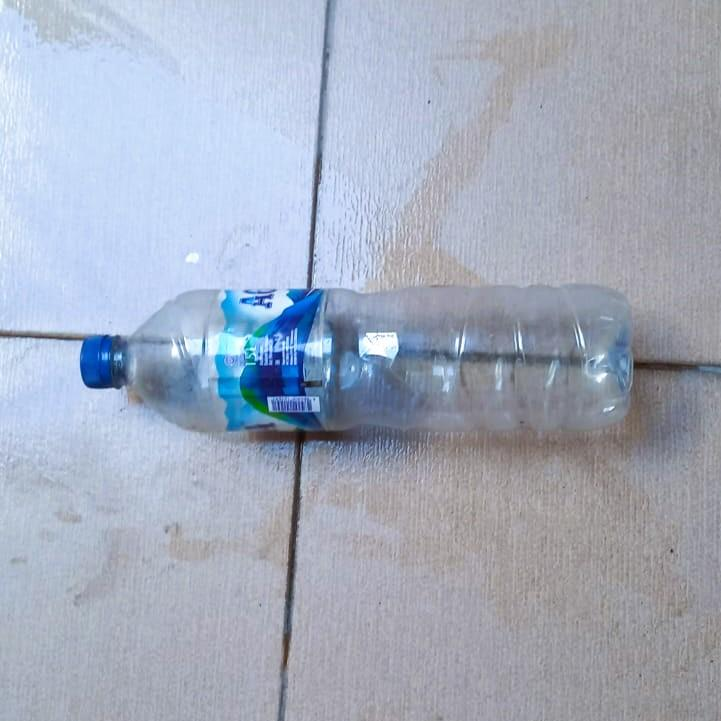Plastik: (78, 282, 634, 435)
